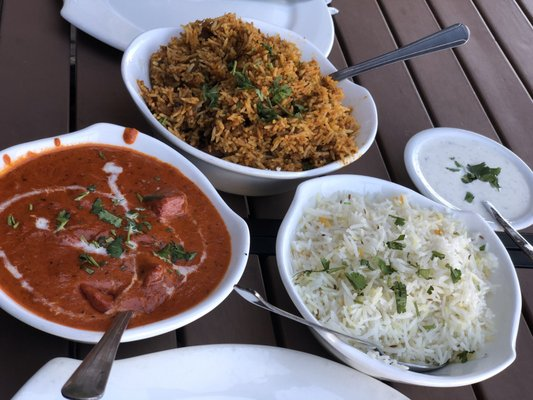salad: (328, 20, 469, 86), (61, 310, 133, 400), (478, 197, 533, 266)
sushi: (276, 174, 523, 389), (0, 134, 250, 344), (121, 13, 380, 198)
